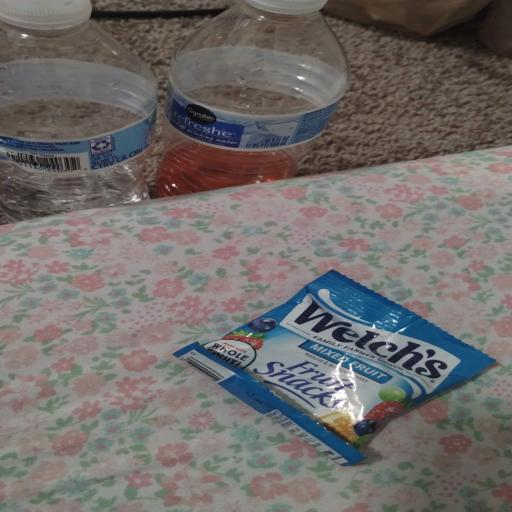chocolate: (175, 271, 493, 465)
waterbottle: (157, 0, 348, 196), (0, 0, 157, 221)
